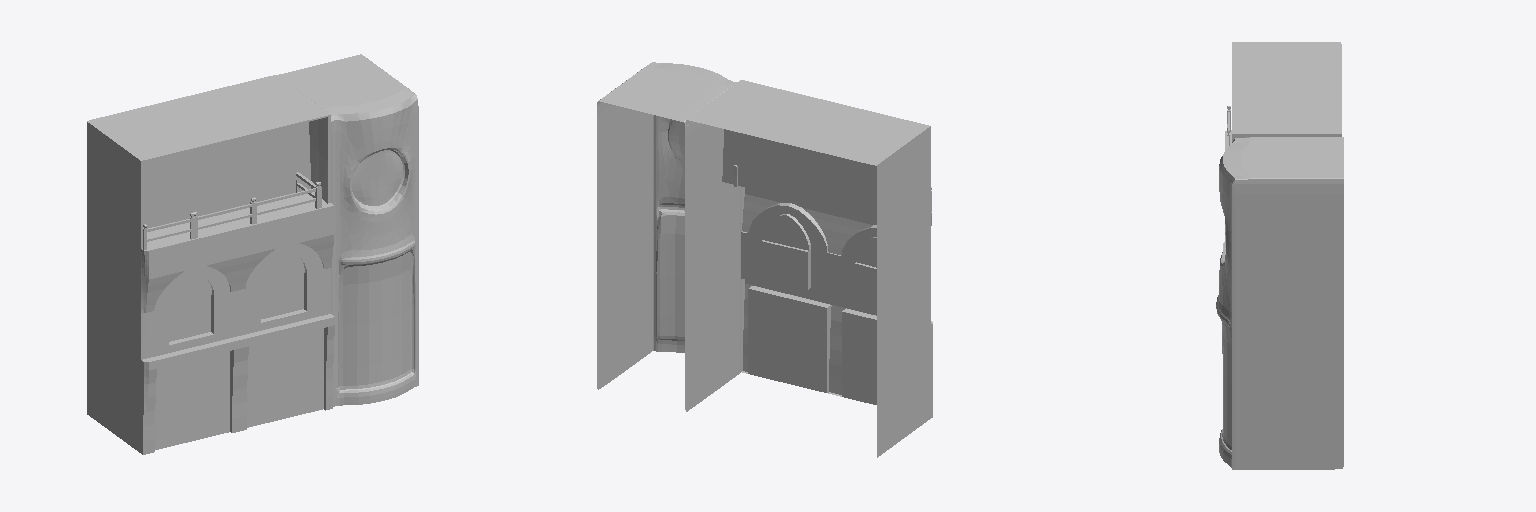
File: module1.obj
3 views of the same model, side by side, from view 1: azimuth 30°, elevation 25°; view 2: azimuth 150°, elevation 25°; view 3: azimuth 270°, elevation 25° (orthographic).
Parts seen in each view (by area): view 1: module1; view 2: module1; view 3: module1.
Part boxes in pixels (x1,y1,x2,y2): module1: (87, 54, 418, 454); module1: (597, 62, 932, 457); module1: (1216, 42, 1343, 469).
Bounding box in the file's own units: 15.98 × 16.09 × 6.39.